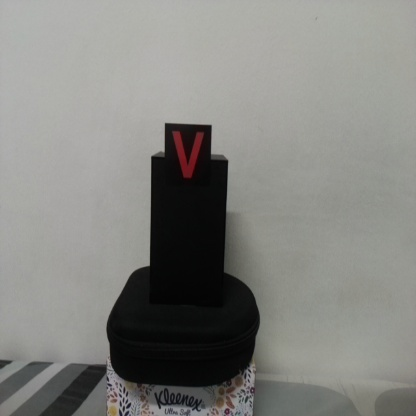id_11: (165, 123, 212, 192)
